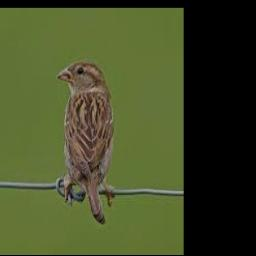Sparrow: (56, 59, 113, 223)
